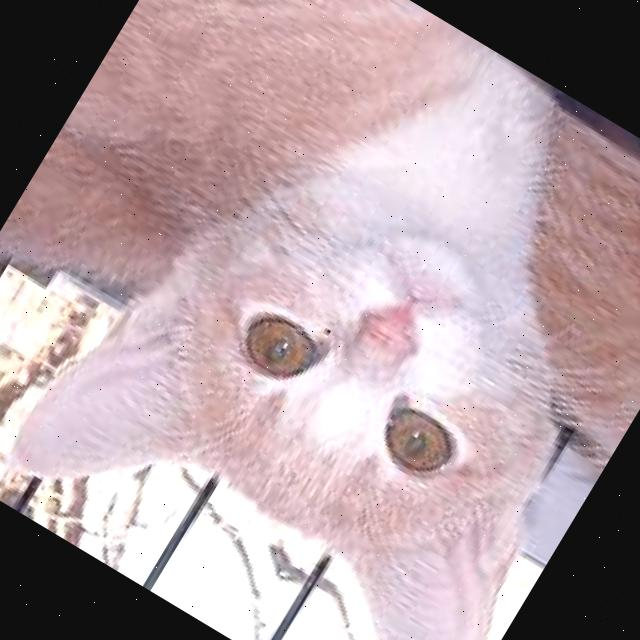cat-eye-normal: (216, 286, 346, 410), (352, 382, 482, 504)
